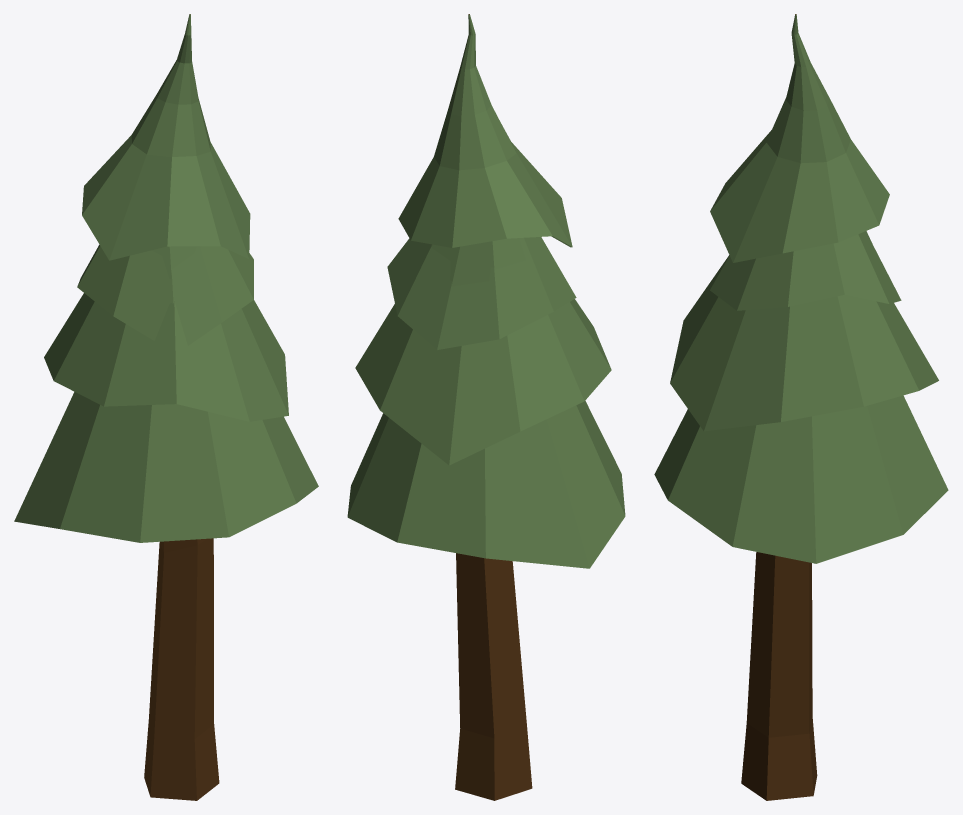
File: H_B_Tree_C.fbx
3 renders of one model, left to right at view 1: azimuth 30°, elevation 25°; view 2: azimuth 150°, elevation 25°; view 3: azimuth 270°, elevation 25°, orthographic. The views are drawn at different scales.
Visible parts, largest first — view 1: H_B_Tree_C; view 2: H_B_Tree_C; view 3: H_B_Tree_C.
Part boxes in pixels (left/top/right/bottom): H_B_Tree_C: left=14, top=14, right=318, bottom=800; H_B_Tree_C: left=347, top=14, right=625, bottom=800; H_B_Tree_C: left=654, top=14, right=948, bottom=800.
Size of the model in its own units: 380 by 1087 by 372.
